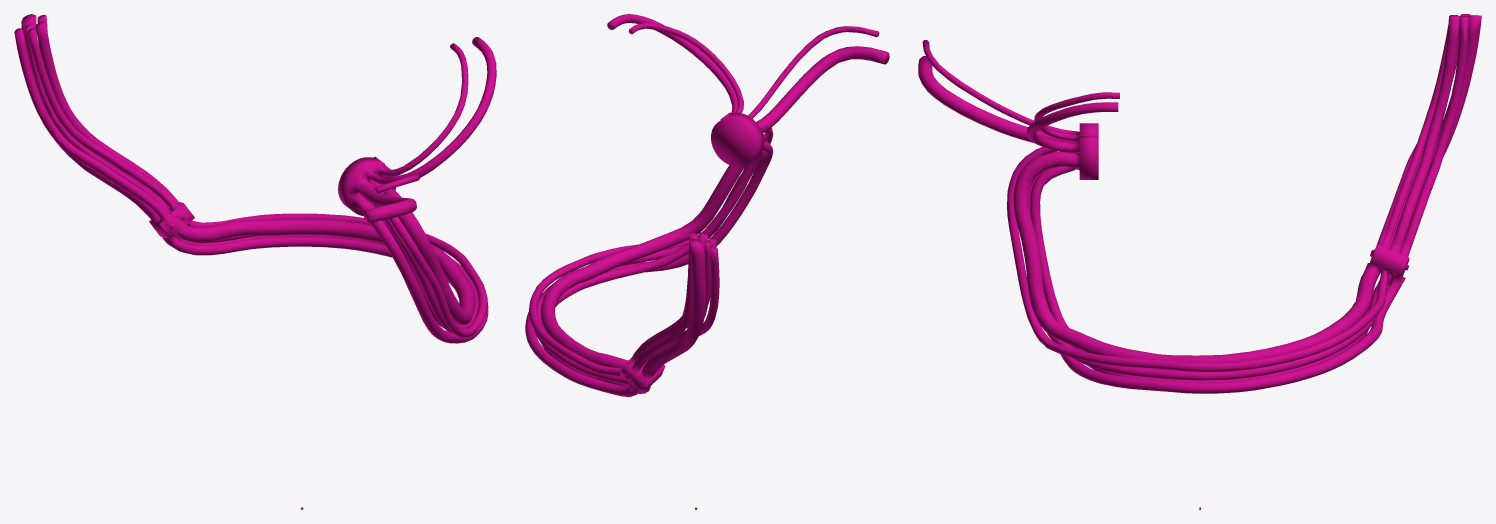
File: 无标题.obj
3 views of the same model, side by side, from view 1: azimuth 30°, elevation 25°; view 2: azimuth 150°, elevation 25°; view 3: azimuth 270°, elevation 25° (orthographic). The views are drawn at different scales.
Parts seen in each view (by area): view 1: off; view 2: off; view 3: off.
Part boxes in pixels (x1,y1,x2,y2): off: (14, 14, 496, 343); off: (525, 14, 889, 396); off: (918, 14, 1481, 393).
Size of the model in its own units: 392 by 552 by 597.
